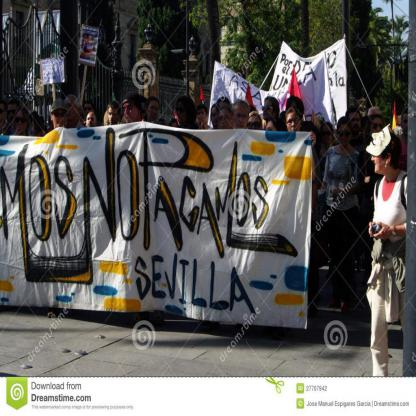face: (234, 105, 249, 131), (124, 103, 140, 124), (372, 149, 385, 173), (339, 124, 352, 146), (287, 113, 301, 133), (65, 99, 77, 121), (248, 118, 261, 138), (53, 110, 66, 129), (220, 112, 232, 132), (349, 113, 361, 132), (16, 114, 27, 134), (177, 102, 187, 124), (148, 103, 160, 121), (373, 121, 385, 139), (403, 115, 413, 136), (264, 101, 275, 120), (322, 127, 332, 146), (266, 122, 276, 139), (109, 109, 119, 125), (87, 115, 97, 129), (213, 109, 221, 126), (11, 104, 18, 122), (198, 110, 206, 124), (85, 105, 93, 118), (399, 130, 404, 140), (90, 36, 92, 40)
